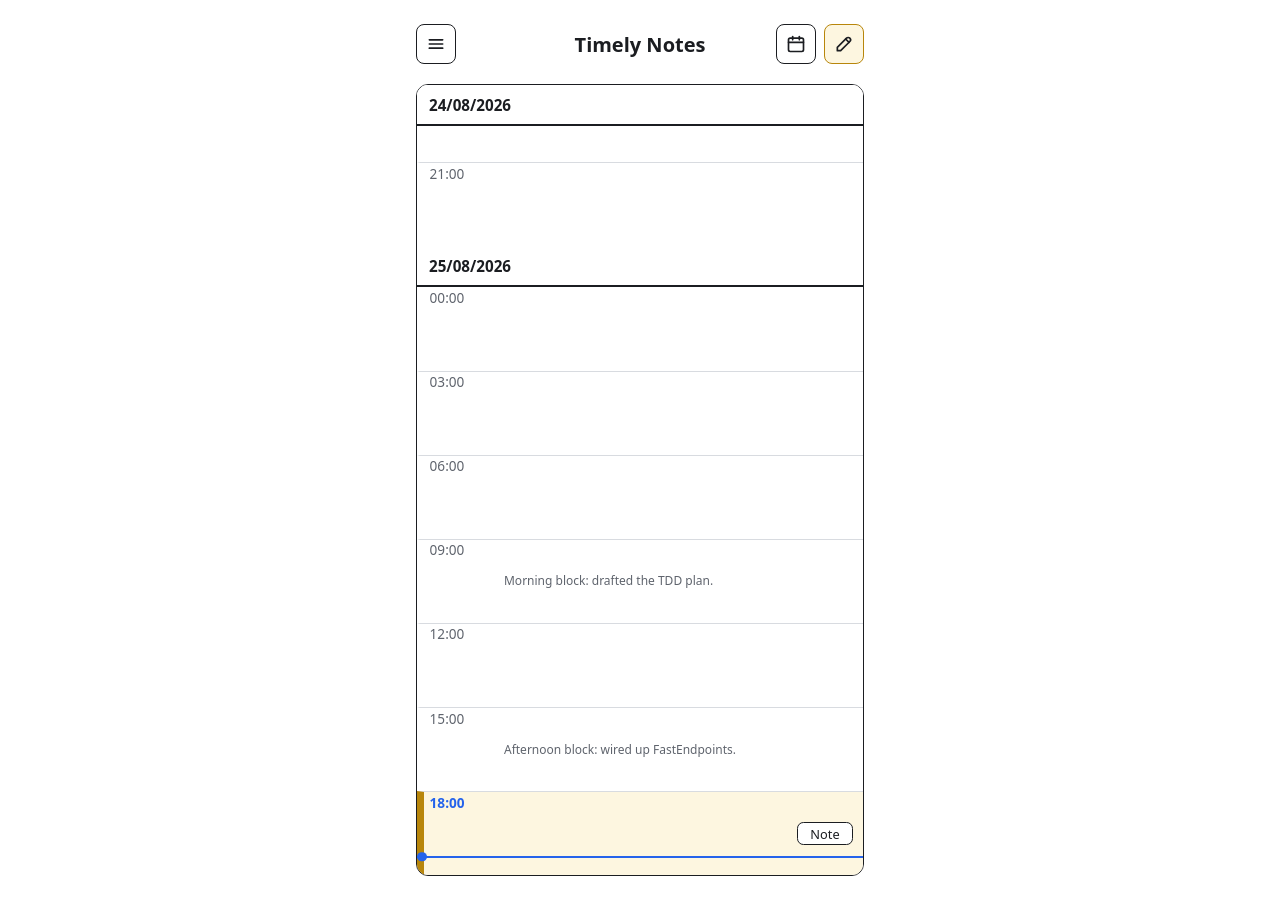
Test case: App — calendar navigation › opens on the month holding the focus day, marked where notes are
(page scrolled)
Expected: the option "18:00 Note" is shown, [417,791,863,875]
Click the button named "Calendar".
click(796, 44)  # box [776,24,816,64]
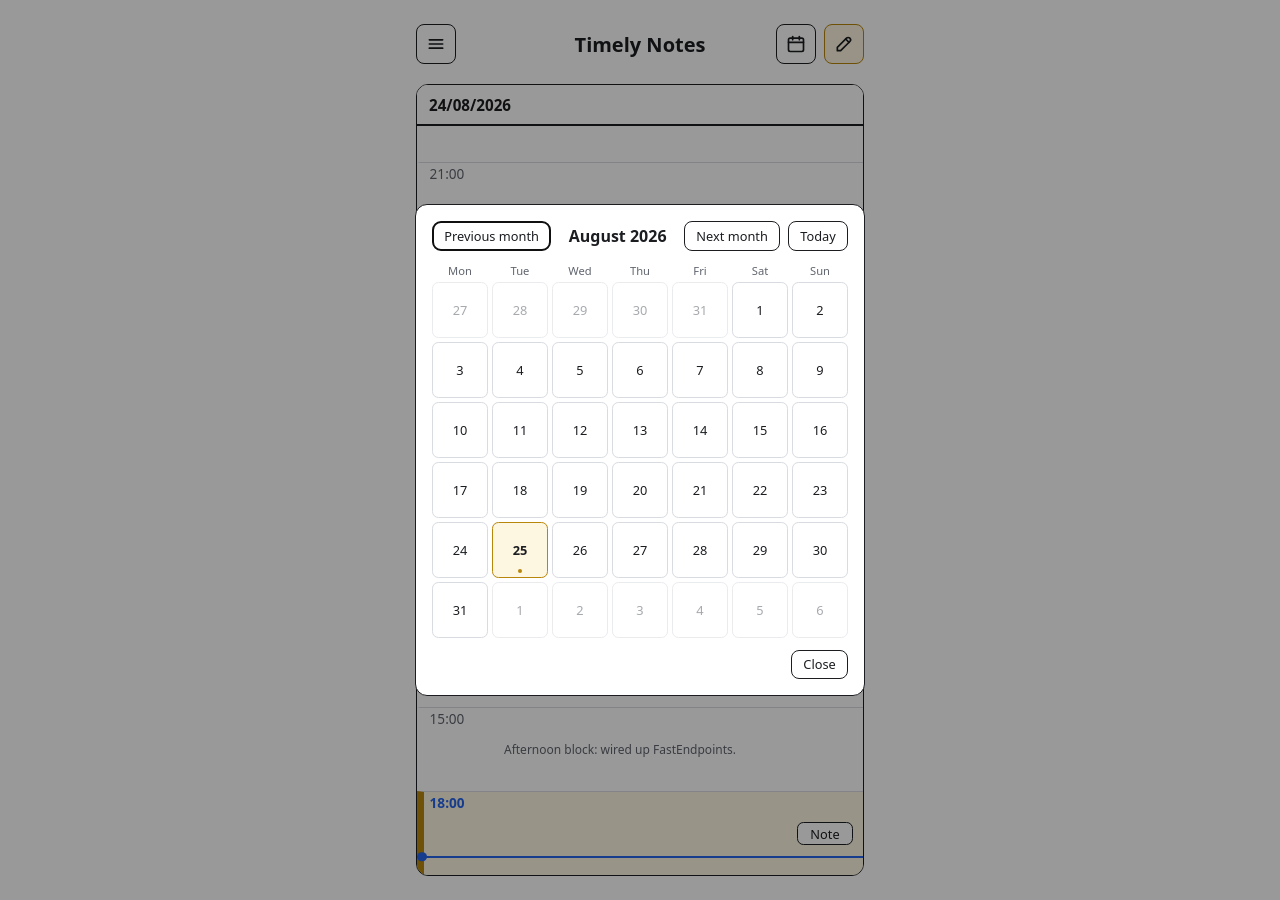
Expected: the heading "August 2026" is shown, [569,225,667,247]
Expected: the button named "25, 2 notes" is shown, [492,522,548,578]
